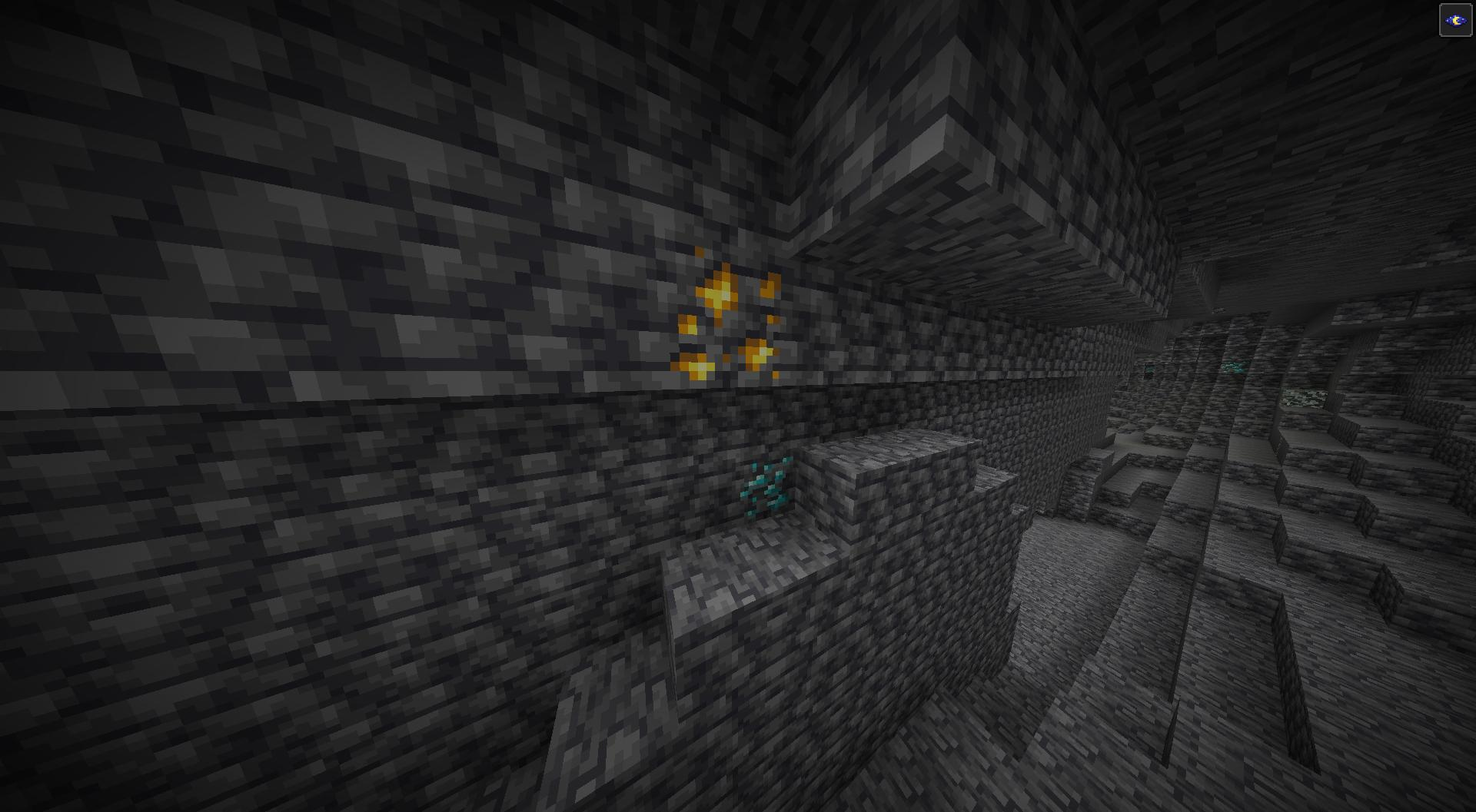diamond ore: (738, 457, 790, 516), (1220, 357, 1250, 376)
gold ore: (674, 249, 785, 383)
